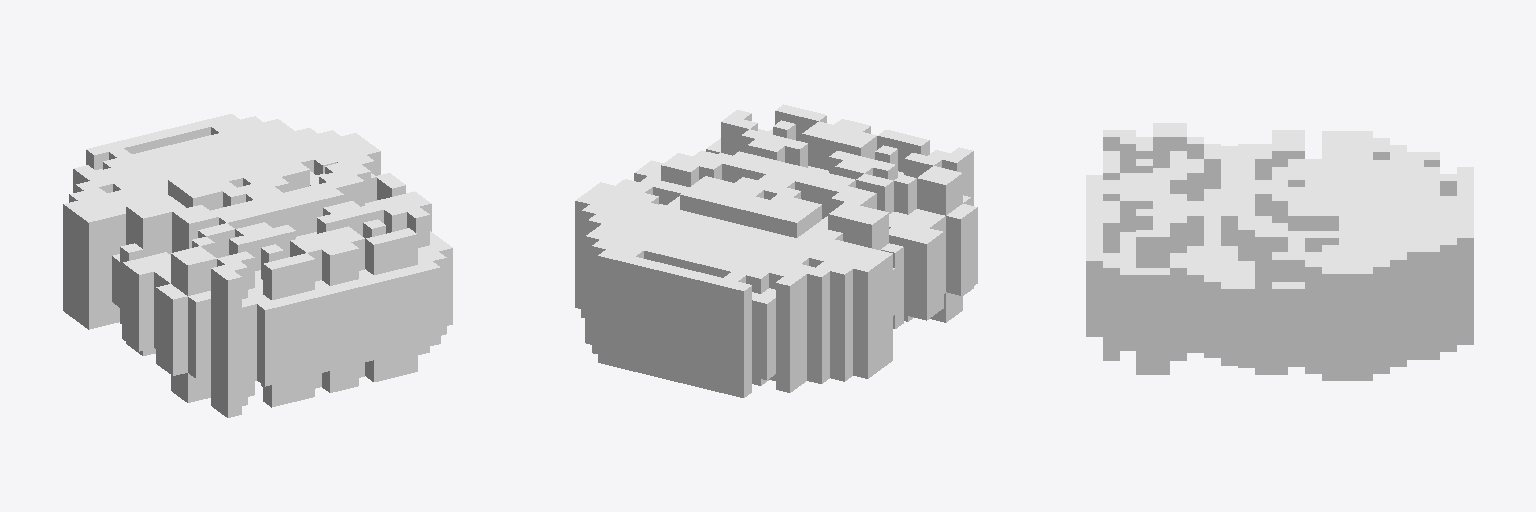
Rendered from icon_002-0-Icon-002-02.obj.
The picture shows the model from 3 angles: view 1: azimuth 30°, elevation 25°; view 2: azimuth 150°, elevation 25°; view 3: azimuth 270°, elevation 25°; orthographic projection.
Visible parts, largest first — view 1: Icon-002-02; view 2: Icon-002-02; view 3: Icon-002-02.
Part boxes in pixels (x1,y1,x2,y2): Icon-002-02: (63,114,452,417); Icon-002-02: (575,104,977,397); Icon-002-02: (1086,123,1473,380).
Bounding box in the file's own units: 2 × 0.9 × 2.3.